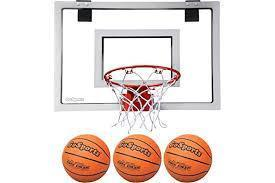ball: (63, 135, 111, 182), (114, 134, 161, 182), (164, 134, 212, 180)
rim: (103, 63, 182, 133)
